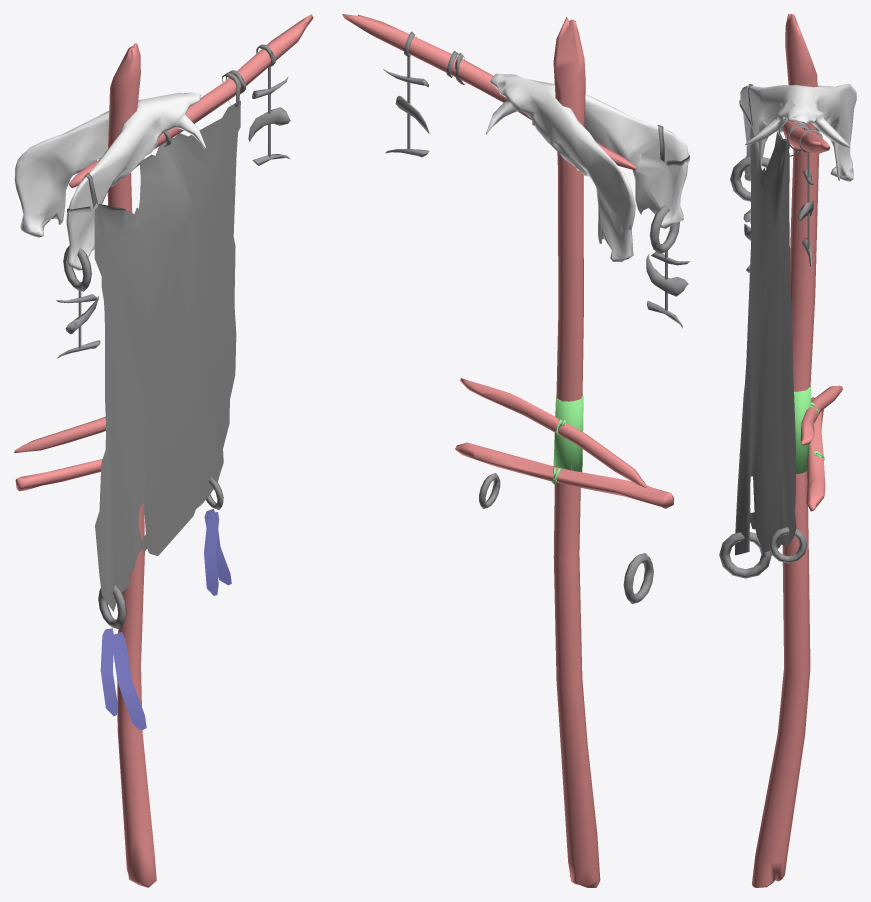
The model's file is banner_generic_village_A.gltf.
3 renders of one model, left to right at view 1: azimuth 30°, elevation 25°; view 2: azimuth 150°, elevation 25°; view 3: azimuth 270°, elevation 25°, orthographic. The views are drawn at different scales.
Parts seen in each view (by area): view 1: banner_generic_village_A; view 2: banner_generic_village_A; view 3: banner_generic_village_A.
Part boxes in pixels (x1=…): banner_generic_village_A: x1=14, y1=14, x2=313, y2=887; banner_generic_village_A: x1=342, y1=14, x2=690, y2=887; banner_generic_village_A: x1=719, y1=14, x2=856, y2=887.
Bounding box in the file's own units: 1.11 × 2.91 × 0.4139.
